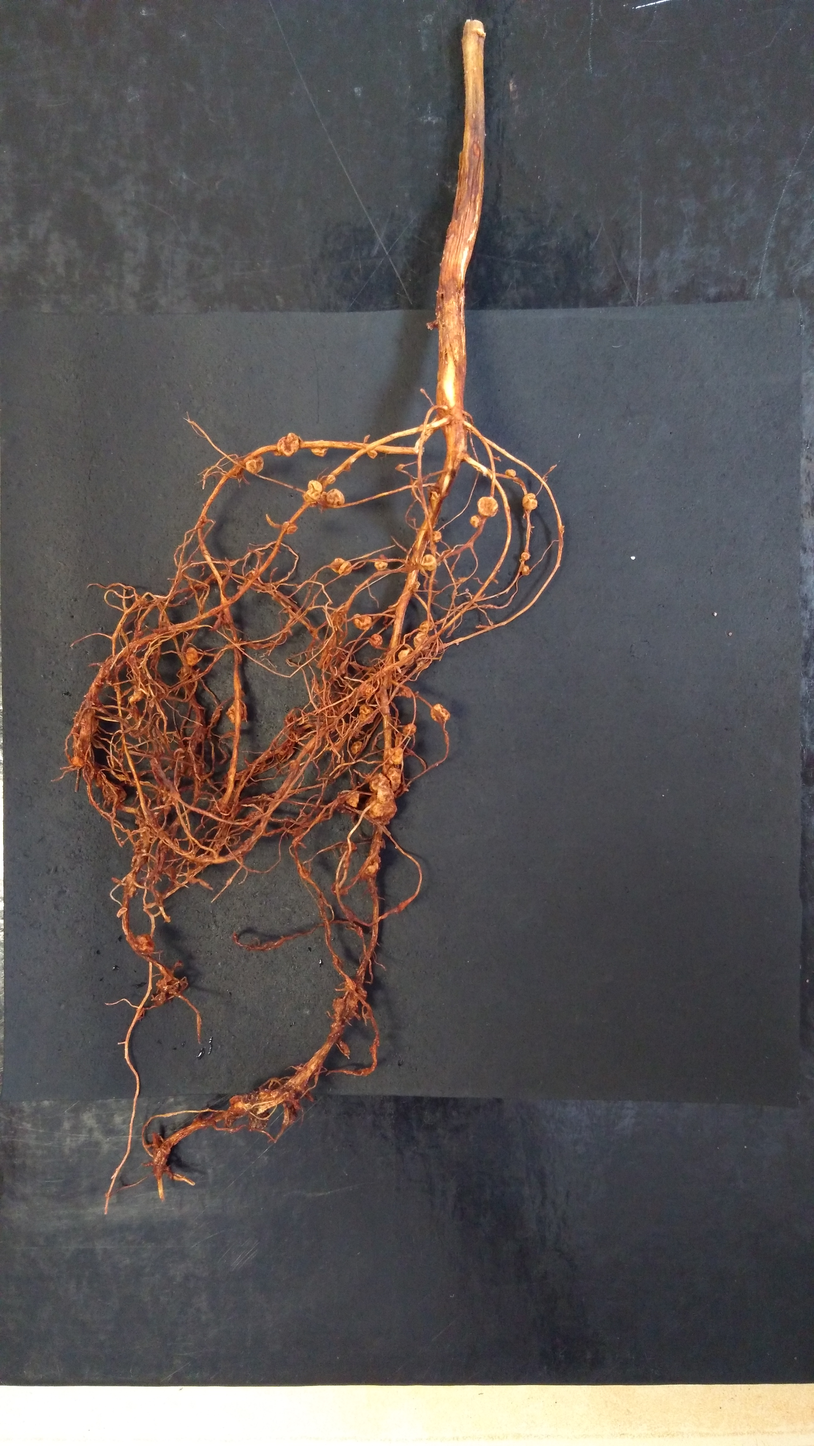nodule: (369, 794, 399, 827), (275, 430, 302, 458), (102, 781, 129, 802), (366, 772, 390, 795), (79, 714, 99, 741), (476, 495, 499, 518), (224, 702, 247, 725), (429, 702, 452, 724), (135, 932, 158, 954), (386, 766, 403, 793), (325, 487, 347, 506), (412, 631, 431, 652), (351, 612, 372, 631), (244, 456, 265, 475), (306, 479, 323, 501), (521, 491, 539, 511), (420, 553, 438, 572), (345, 791, 362, 810), (184, 645, 199, 666), (397, 648, 414, 666), (357, 704, 374, 721), (389, 747, 405, 765), (337, 560, 353, 577), (378, 788, 395, 804), (330, 557, 345, 574), (310, 445, 329, 458), (368, 633, 384, 648), (402, 722, 418, 736), (129, 690, 145, 704), (227, 1093, 244, 1106), (419, 620, 435, 632), (373, 561, 389, 572), (351, 740, 364, 753), (469, 514, 481, 528), (286, 524, 300, 536), (366, 449, 379, 461), (432, 529, 443, 543), (71, 756, 84, 767), (504, 468, 517, 478), (521, 564, 531, 576), (325, 474, 337, 484), (520, 551, 531, 561)
